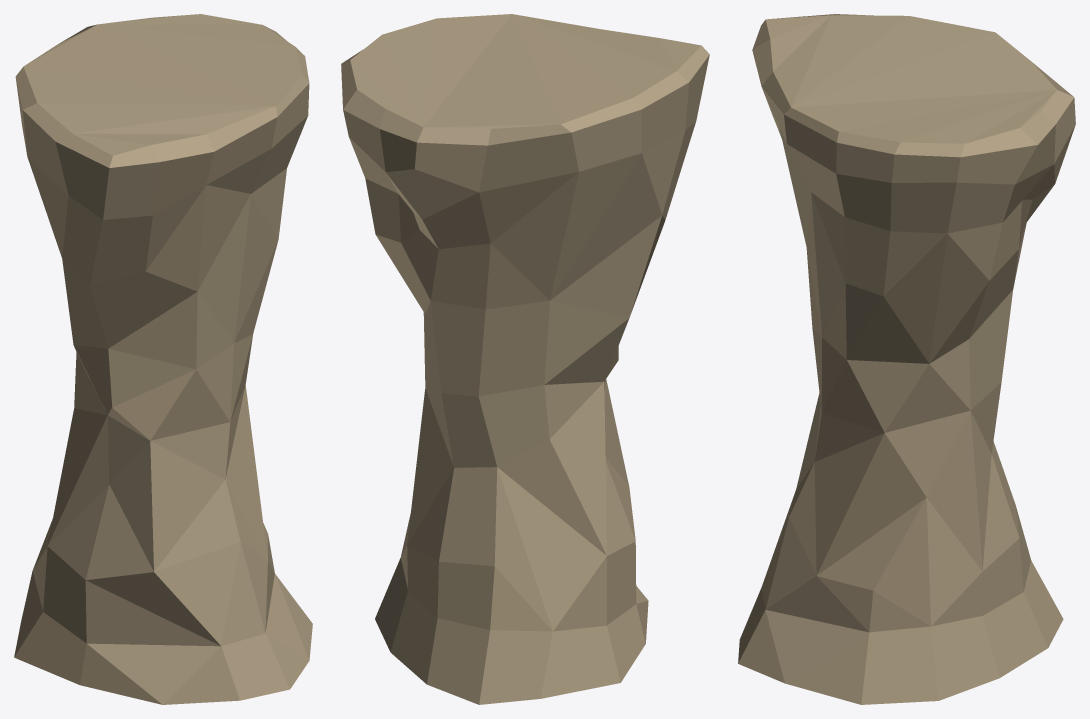
Rendered from Pillar-A06.fbx.
3 views of the same model, side by side, from view 1: azimuth 30°, elevation 25°; view 2: azimuth 150°, elevation 25°; view 3: azimuth 270°, elevation 25° (orthographic).
Parts seen in each view (by area): view 1: Pillar-A06; view 2: Pillar-A06; view 3: Pillar-A06.
Boxes of the visible parts, x1,y1,x2,y2 form: Pillar-A06: (14, 14, 312, 704); Pillar-A06: (341, 14, 709, 704); Pillar-A06: (738, 14, 1075, 704).
Bounding box in the file's own units: 208 × 214 × 397.
